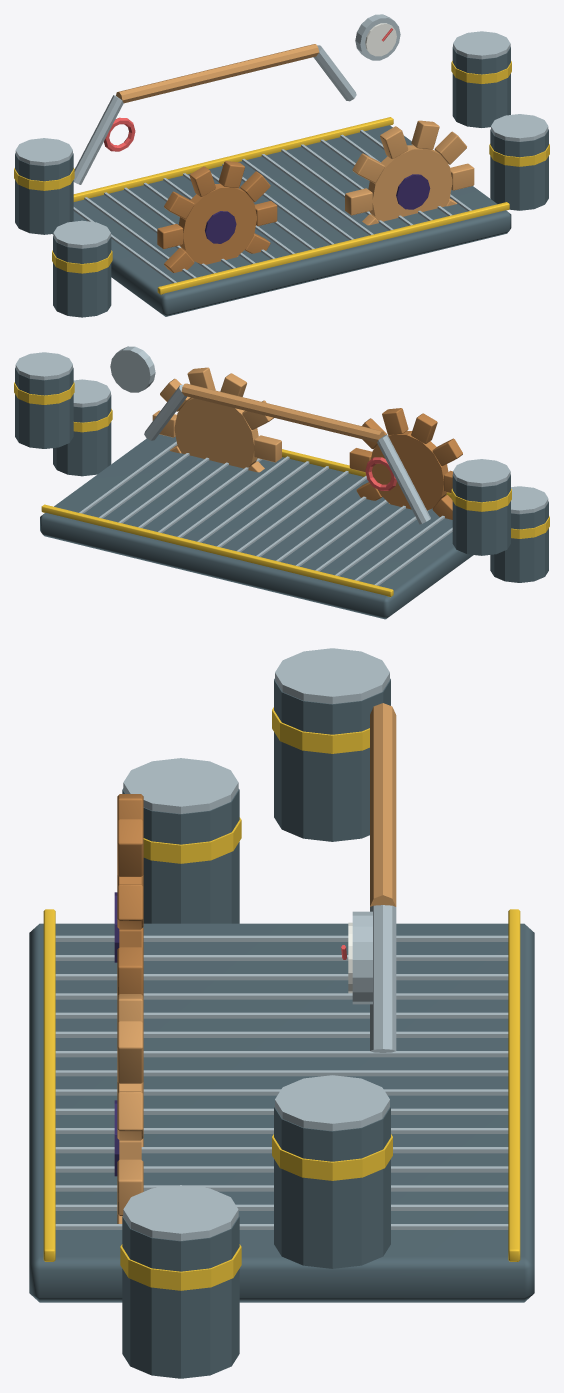
The model's file is busqueda_taller_chatarra_r2.glb.
3 renders of one model, top to bottom at view 1: azimuth 30°, elevation 25°; view 2: azimuth 150°, elevation 25°; view 3: azimuth 270°, elevation 25°, orthographic. The views are drawn at different scales.
Visible parts, largest first — view 1: Industrial grated platform, Gear hub, Gear hub.001, Oil barrel, Oil barrel.002, Oil barrel.001, Oil barrel.003, Platform rim, Steam pipe.001, Platform rim.001, Barrel lid, Barrel lid.003 (+31 smaller); view 2: Industrial grated platform, Gear hub.001, Oil barrel.001, Oil barrel.003, Gear hub, Platform rim.001, Oil barrel.002, Oil barrel, Steam pipe.001, Gauge housing, Barrel lid.001, Barrel lid.003 (+35 smaller); view 3: Industrial grated platform, Oil barrel.002, Oil barrel.003, Oil barrel.001, Oil barrel, Steam pipe.001, Barrel lid.002, Barrel lid.001, Barrel lid.003, Barrel lid, Platform rim, Platform rim.001 (+28 smaller).
Boxes of the visible parts, bbox=[...] form: Industrial grated platform: bbox=[52, 125, 511, 316]; Gear hub: bbox=[178, 184, 256, 264]; Gear hub.001: bbox=[368, 145, 452, 221]; Oil barrel: bbox=[53, 236, 111, 317]; Oil barrel.002: bbox=[490, 129, 548, 210]; Oil barrel.001: bbox=[15, 153, 73, 234]; Oil barrel.003: bbox=[452, 47, 510, 127]; Platform rim: bbox=[157, 202, 509, 294]; Steam pipe.001: bbox=[116, 44, 319, 103]; Platform rim.001: bbox=[73, 117, 393, 201]; Barrel lid: bbox=[53, 220, 110, 248]; Barrel lid.003: bbox=[453, 31, 510, 59]; Industrial grated platform: bbox=[40, 434, 473, 619]; Gear hub.001: bbox=[174, 398, 258, 468]; Oil barrel.001: bbox=[452, 474, 510, 555]; Oil barrel.003: bbox=[15, 367, 73, 448]; Gear hub: bbox=[371, 431, 448, 510]; Platform rim.001: bbox=[41, 504, 393, 597]; Oil barrel.002: bbox=[53, 395, 111, 476]; Oil barrel: bbox=[490, 501, 548, 582]; Steam pipe.001: bbox=[181, 383, 384, 442]; Gauge housing: bbox=[110, 346, 155, 392]; Barrel lid.001: bbox=[453, 459, 510, 486]; Barrel lid.003: bbox=[15, 352, 72, 380]; Industrial grated platform: bbox=[29, 923, 534, 1302]; Oil barrel.002: bbox=[122, 1215, 239, 1378]; Oil barrel.003: bbox=[274, 1105, 390, 1268]; Oil barrel.001: bbox=[274, 678, 390, 841]; Oil barrel: bbox=[122, 788, 239, 923]; Steam pipe.001: bbox=[370, 703, 396, 906]; Barrel lid.002: bbox=[123, 1185, 238, 1240]; Barrel lid.001: bbox=[275, 648, 389, 703]; Barrel lid.003: bbox=[275, 1075, 389, 1130]; Barrel lid: bbox=[123, 758, 238, 813]; Platform rim: bbox=[43, 909, 55, 1261]; Platform rim.001: bbox=[508, 909, 520, 1261].
Bounding box in the file's own units: 11.2 × 4.11 × 5.
